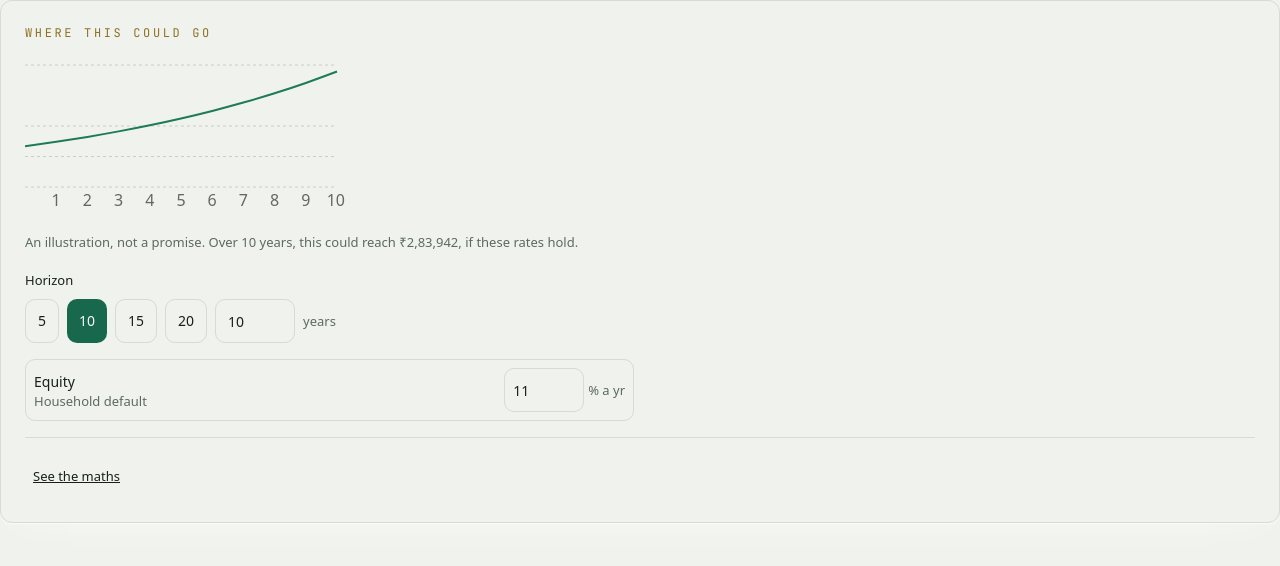
ProjectionPanel › horizon control (E7) › rejects a free-field value outside 1 to 40 without changing the projection
The width and height of the screenshot is (1280, 566).
Expected: the button "5" is shown, [25,299,59,343]
Replace the text in the number field named "horizon" with "41": (255, 321) [215,299,295,343]
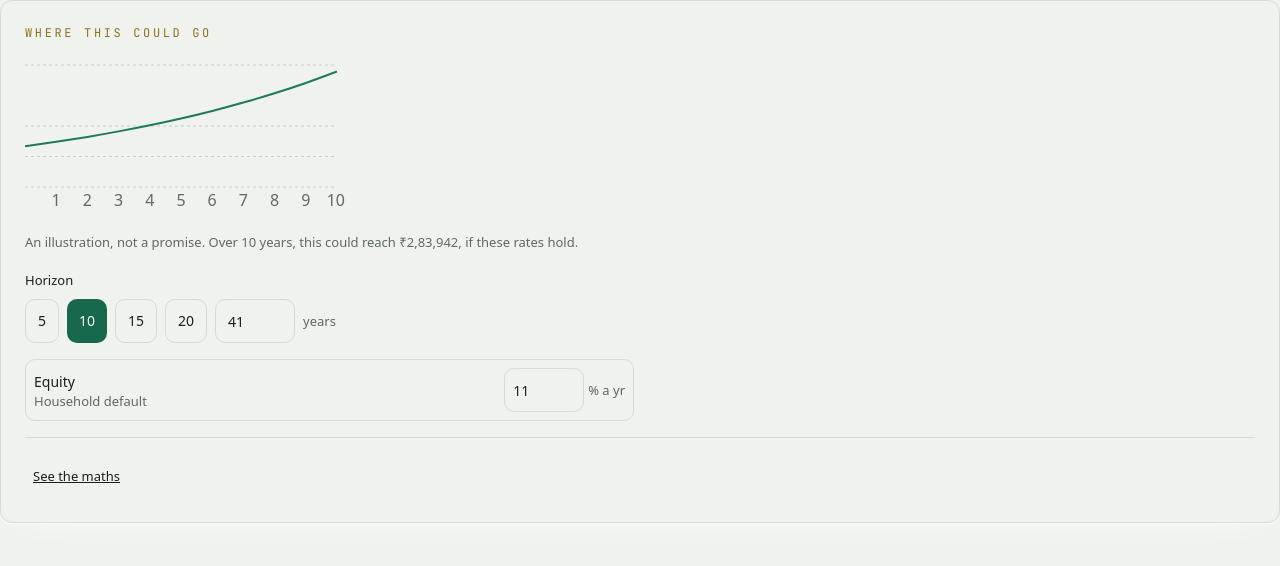
Leave the number field named "horizon", box [215,299,295,343]
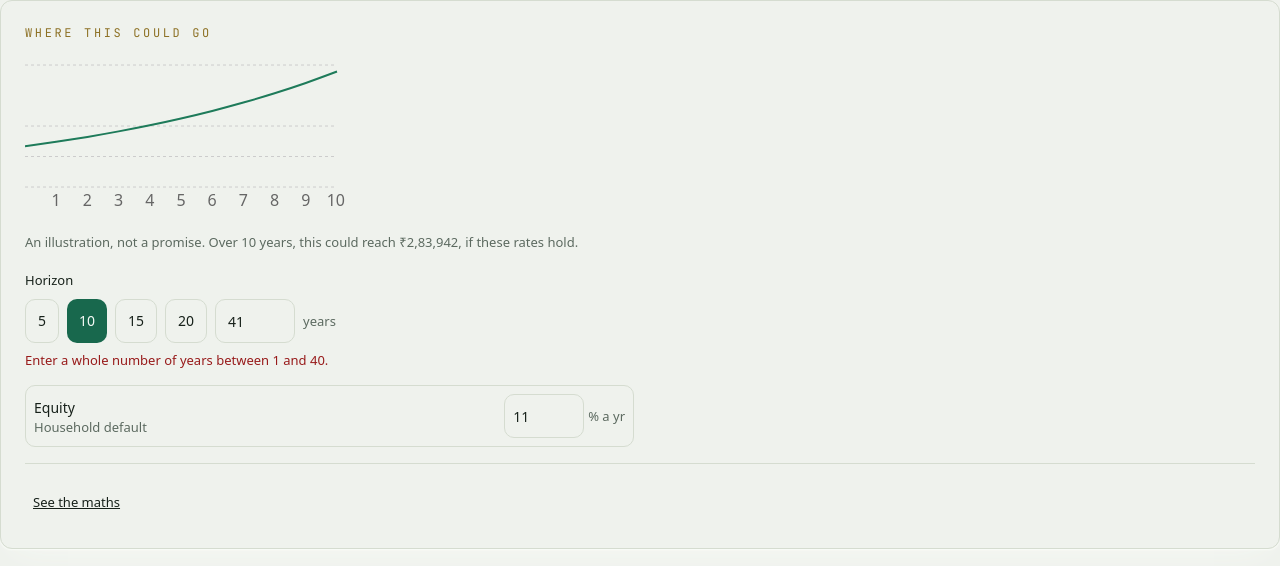
Expected: the text "Over 10 years" is shown, [25,233,578,251]
Expected: the text "Enter a whole number of years between 1 and 40." is shown, [25,351,328,369]
